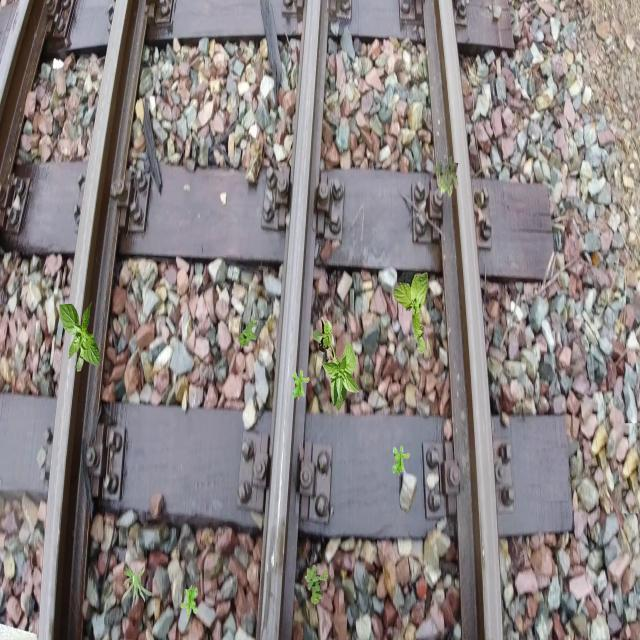Plant: (313, 317, 361, 412), (59, 301, 100, 372), (393, 271, 428, 354), (121, 564, 154, 610), (433, 155, 459, 198), (305, 564, 329, 605), (238, 318, 258, 350), (292, 369, 310, 401), (180, 585, 198, 617), (393, 445, 410, 477)
